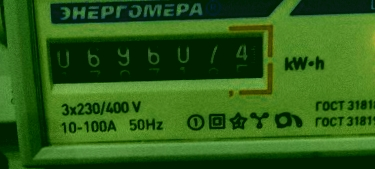0: (51, 43, 71, 68), (173, 38, 190, 64)
4: (231, 37, 248, 59)
5: (233, 62, 249, 77)
6: (144, 39, 162, 65), (83, 43, 101, 67)
7: (203, 39, 221, 64)
9: (113, 41, 130, 67)
screen: (35, 19, 277, 94)
